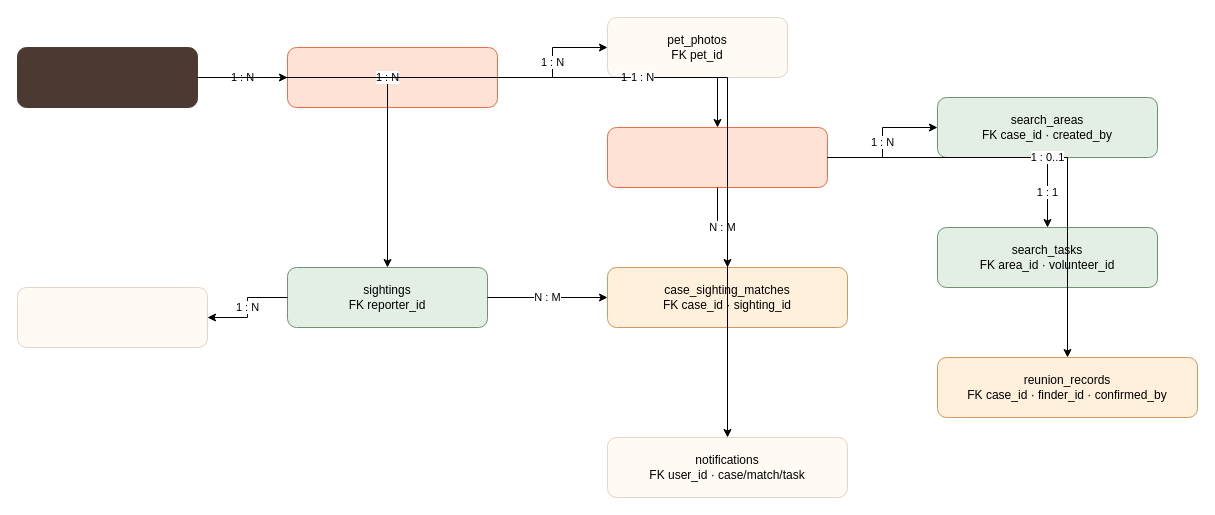
Image size: 1215x515. Some labels were removed from this diagram. Here are the shapes that lost their labels. From the top down, the box of each, then its label:
(16, 46, 198, 108): users PK user_id
(286, 46, 498, 108): pets PK pet_id · FK owner_id
(606, 126, 828, 188): lost_cases FK pet_id · publisher_id
(16, 286, 208, 348): sighting_photos FK sighting_id
